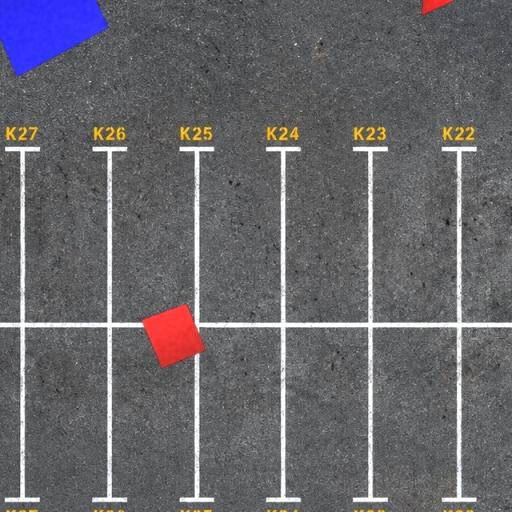BLUE_SQUARE: (0, 0, 110, 78)
RED_SQUARE: (141, 302, 207, 370)
